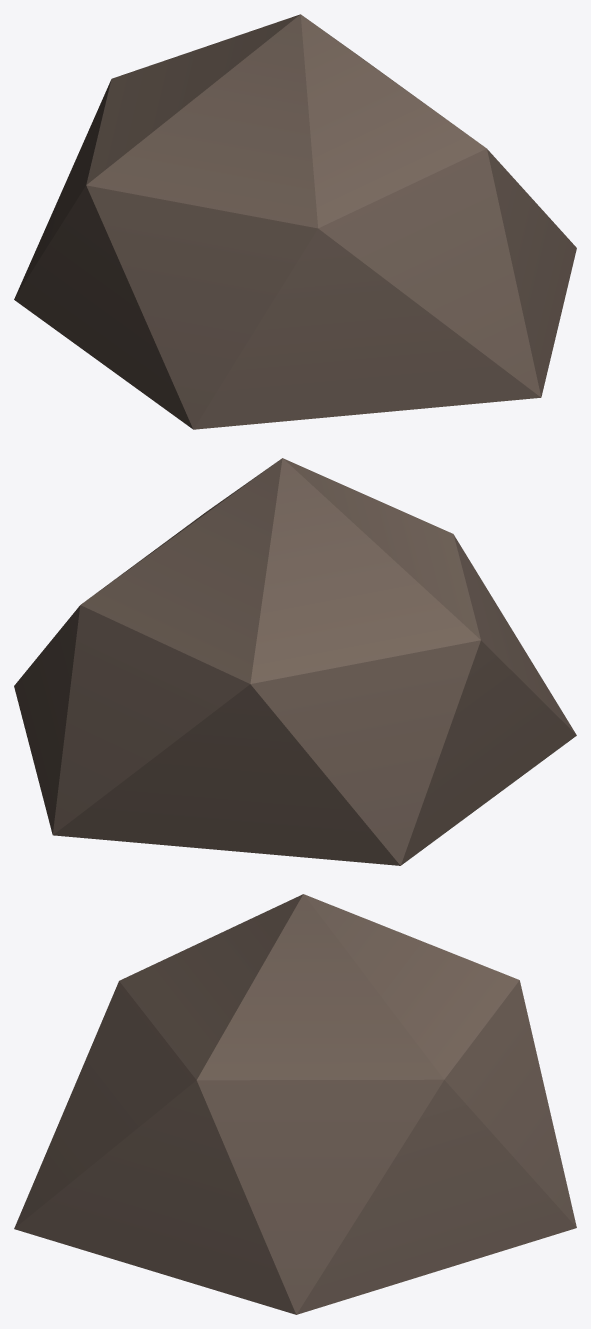
Rendered from trash_B.obj.
The picture shows the model from 3 angles, top to bottom: view 1: azimuth 30°, elevation 25°; view 2: azimuth 150°, elevation 25°; view 3: azimuth 270°, elevation 25°; orthographic projection. The views are drawn at different scales.
Bounding box in the file's own units: 0.0681 × 0.0404 × 0.0708.
1 material, 1 textured.
